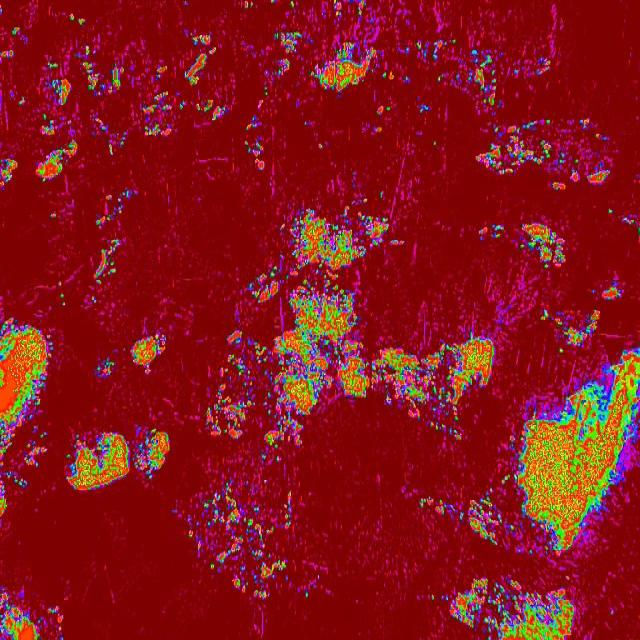fire: (205, 208, 496, 448), (514, 350, 640, 560), (172, 477, 294, 601), (0, 314, 53, 528), (474, 119, 610, 190), (439, 576, 573, 640), (65, 427, 131, 491), (308, 40, 377, 94), (457, 484, 512, 548), (538, 306, 602, 348), (0, 584, 44, 640), (140, 90, 188, 140), (518, 221, 566, 269), (468, 48, 502, 114), (136, 423, 170, 482), (35, 140, 79, 182), (184, 33, 218, 86), (130, 331, 170, 374), (82, 62, 124, 96), (274, 31, 304, 77), (92, 116, 128, 154), (246, 114, 268, 172), (95, 190, 132, 224), (94, 238, 120, 286), (416, 496, 458, 520), (45, 602, 69, 640), (414, 38, 458, 58), (194, 97, 228, 121), (48, 77, 70, 109), (0, 154, 20, 188), (94, 353, 120, 379), (600, 280, 624, 306), (38, 111, 58, 138), (532, 54, 552, 76), (303, 576, 320, 598), (621, 214, 640, 233), (56, 281, 68, 307), (66, 12, 88, 26), (10, 92, 30, 107), (352, 196, 372, 209), (260, 454, 282, 465), (332, 0, 343, 20), (10, 23, 24, 38), (355, 0, 366, 19), (377, 101, 390, 117), (154, 64, 166, 81), (381, 68, 395, 82), (1, 47, 15, 61), (417, 102, 430, 117), (496, 222, 505, 242), (258, 81, 268, 98), (241, 0, 255, 12), (501, 469, 512, 483), (46, 60, 60, 70), (83, 42, 92, 57), (512, 65, 523, 76), (180, 0, 192, 10), (428, 590, 436, 604), (49, 212, 60, 222), (435, 72, 445, 83), (606, 206, 615, 218), (316, 140, 326, 150), (404, 45, 412, 56), (90, 296, 98, 306), (288, 0, 296, 10), (432, 140, 439, 150), (402, 74, 409, 84), (608, 609, 616, 617), (378, 191, 384, 198), (270, 0, 276, 5), (0, 4, 3, 14)
